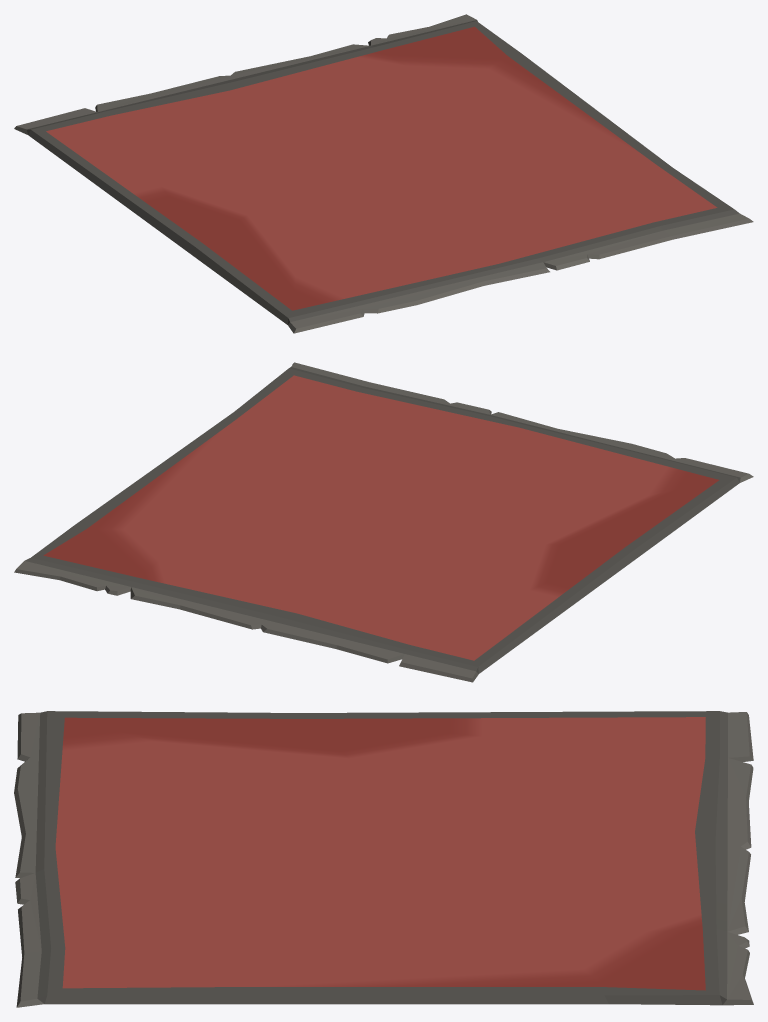
File: SM_Prop_Rug_01.fbx
The picture shows the model from 3 angles, top to bottom: view 1: azimuth 30°, elevation 25°; view 2: azimuth 150°, elevation 25°; view 3: azimuth 270°, elevation 25°; orthographic projection. The views are drawn at different scales.
Parts seen in each view (by area): view 1: SM_Prop_Rug_01; view 2: SM_Prop_Rug_01; view 3: SM_Prop_Rug_01.
Boxes of the visible parts, x1,y1,x2,y2 form: SM_Prop_Rug_01: (14, 14, 753, 333); SM_Prop_Rug_01: (14, 362, 753, 682); SM_Prop_Rug_01: (14, 711, 753, 1007).
Bounding box in the file's own units: 245 × 3 × 262.
